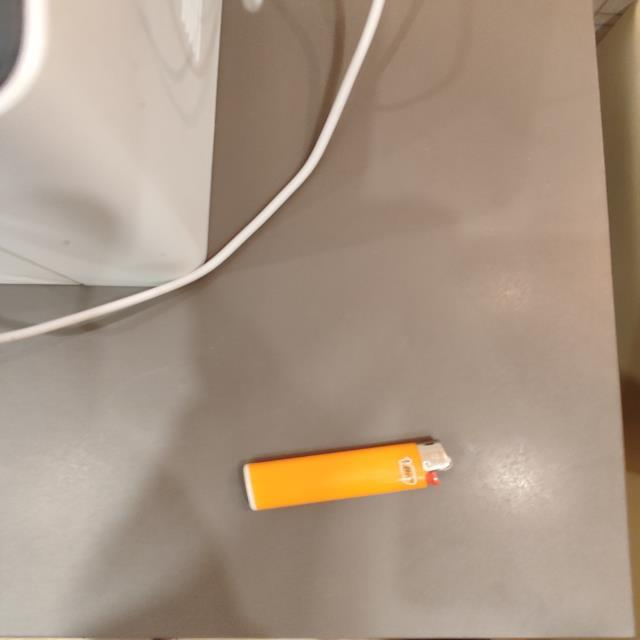lighter: (243, 438, 451, 510)
